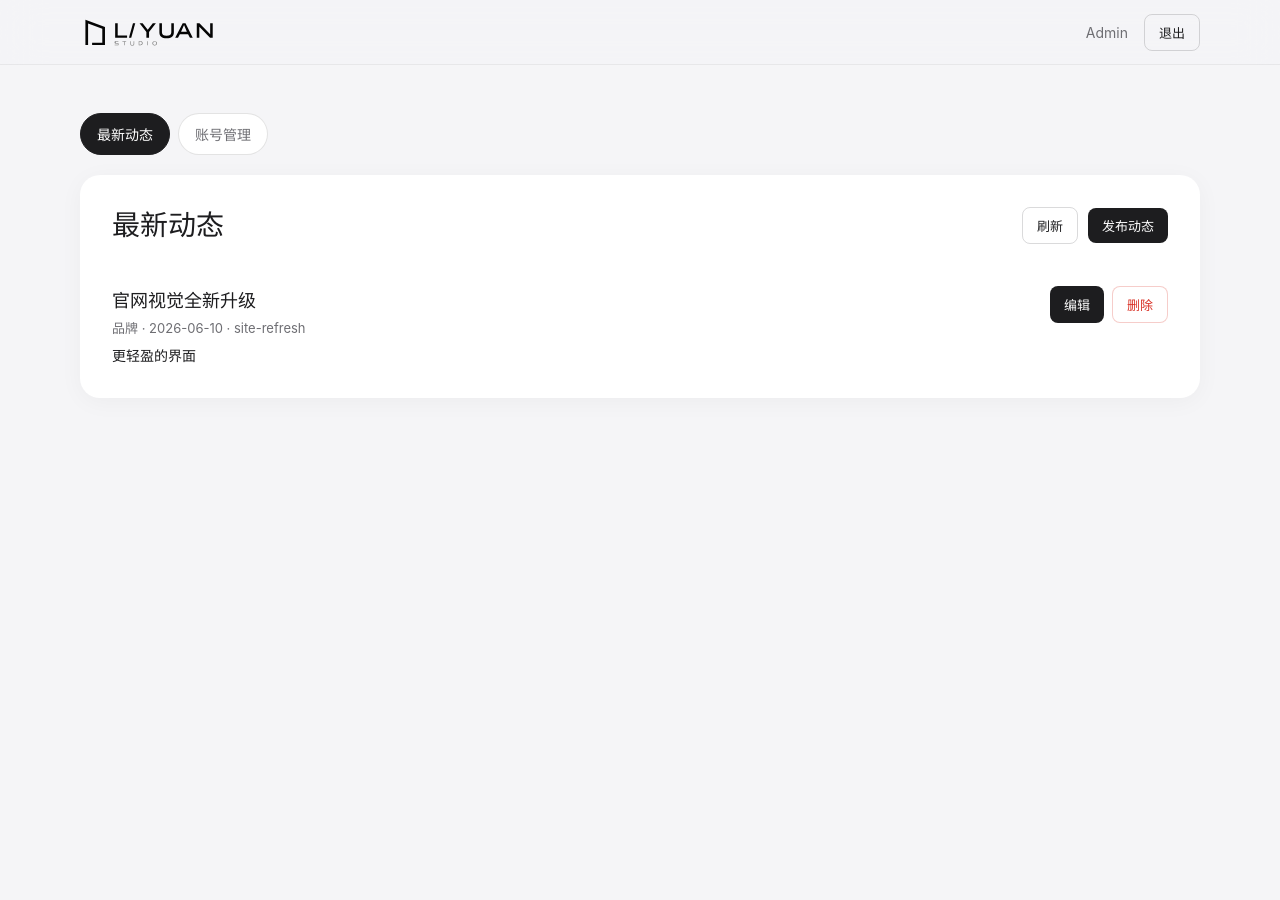
Test: AdminPage › edits an existing news item and normalizes optional fields
Expected: the heading "官网视觉全新升级" is shown, [112,290,256,311]
Click the button "编辑" at (1077, 304), box [1050,286,1104,323]
(page scrolled)
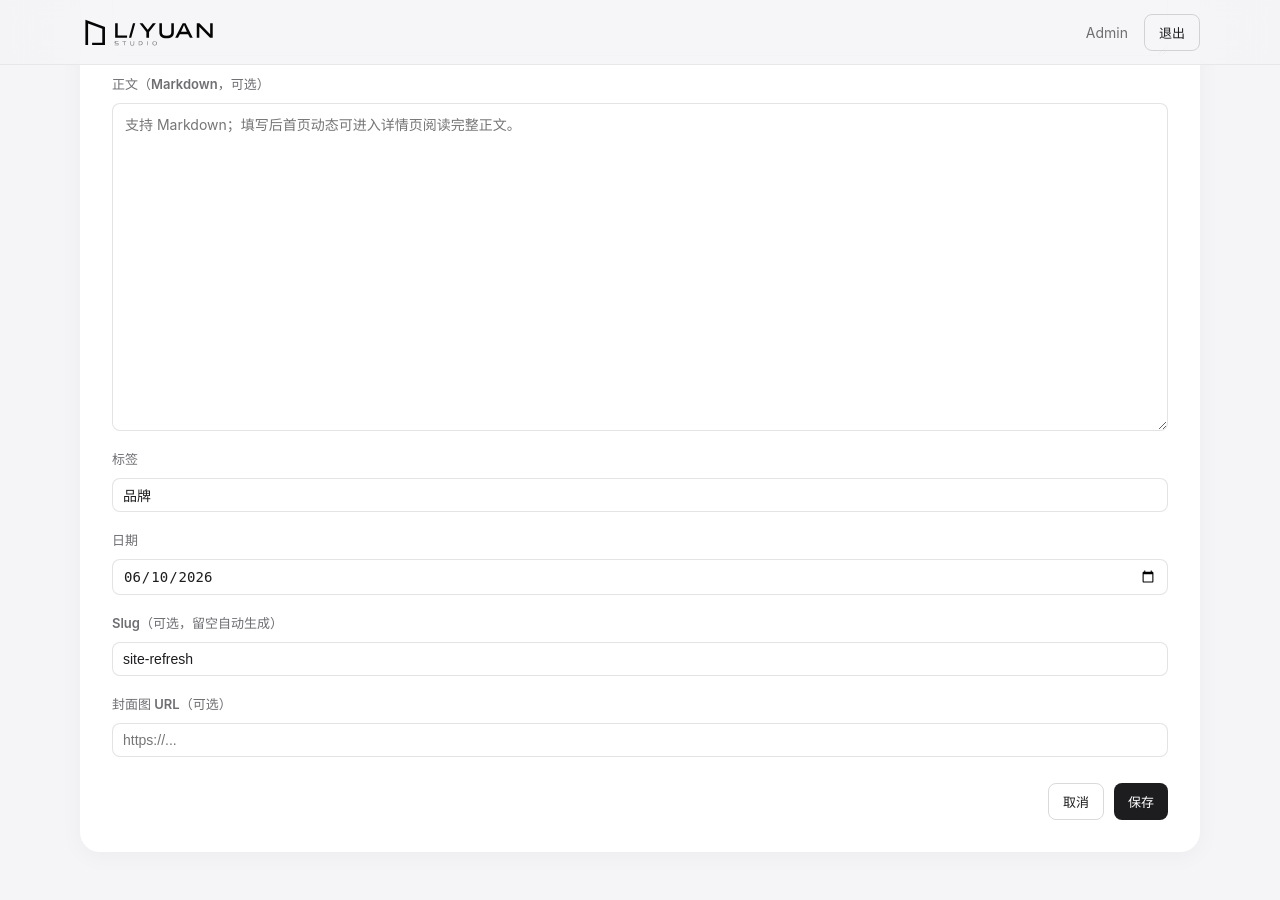
Now the text box labelled "正文（Markdown，可选）" is empty, box [112,103,1168,431]
Now the field labelled "封面图 URL（可选）" is empty, box [112,723,1168,757]
Clear the field labelled "Slug（可选，留空自动生成）" at (640, 659), box [112,642,1168,676]
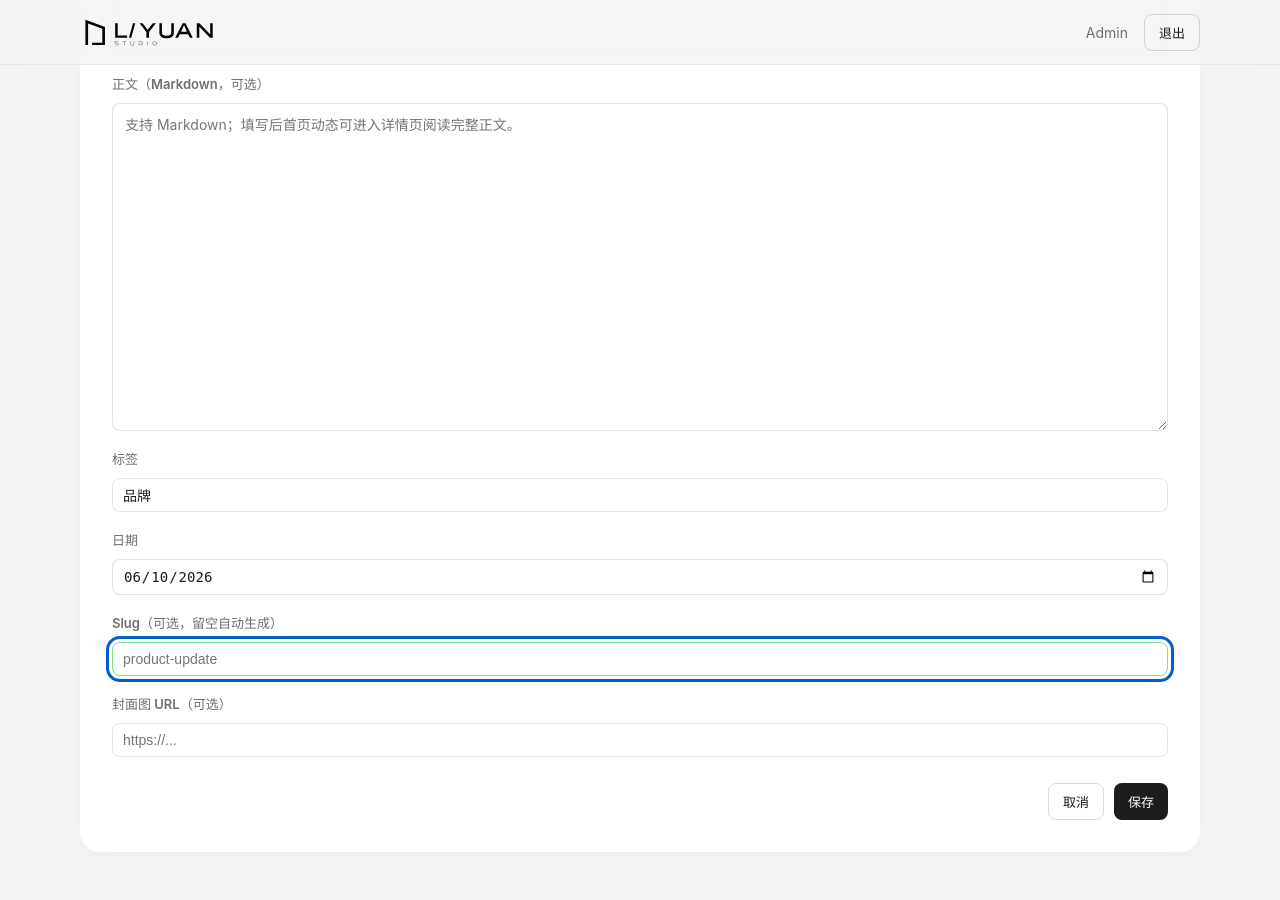
Type " https://example.com/news.png " into the field labelled "封面图 URL（可选）" at (640, 740), box [112,723,1168,757]
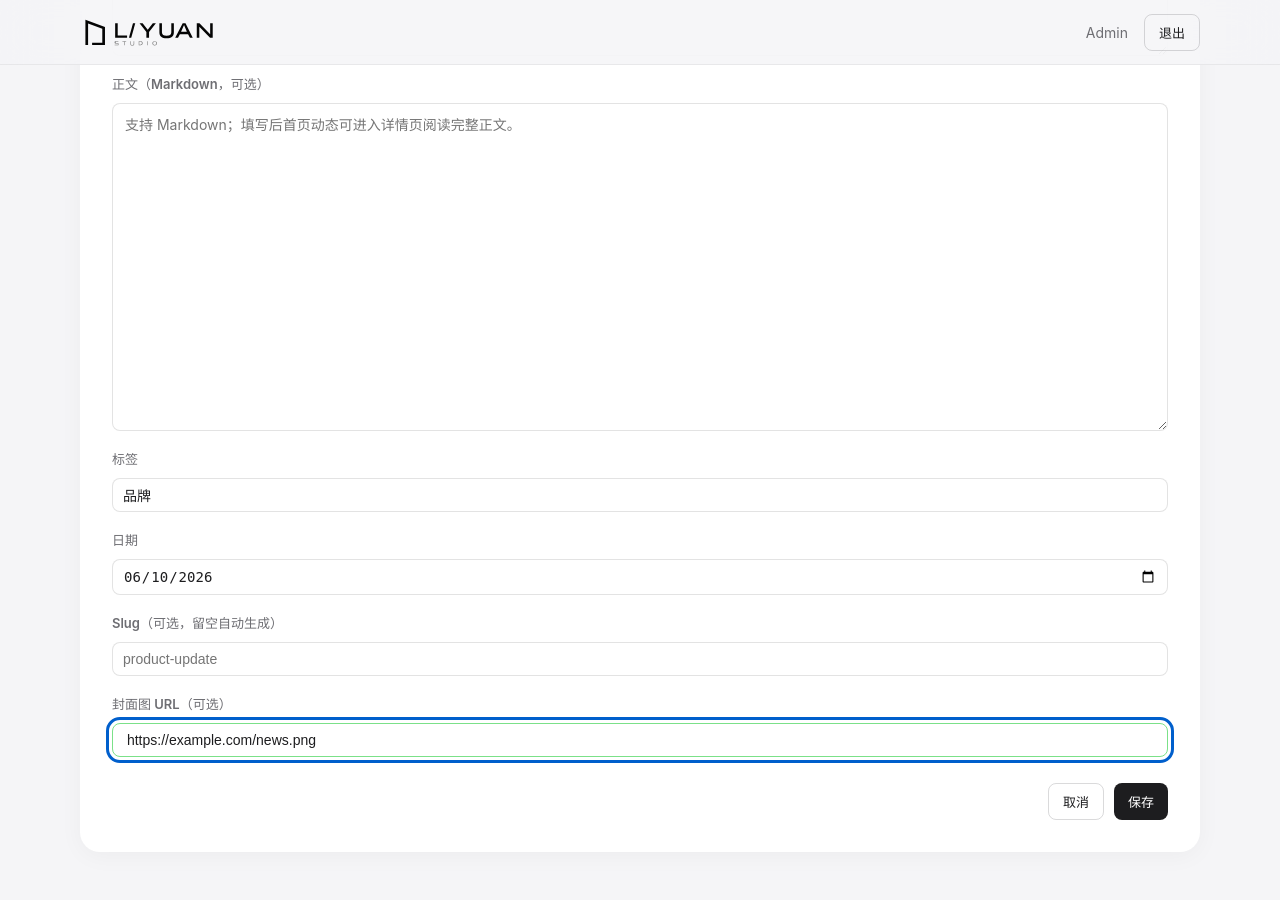
Click the button "保存" at (1141, 802), box [1114,783,1168,820]
(page scrolled)
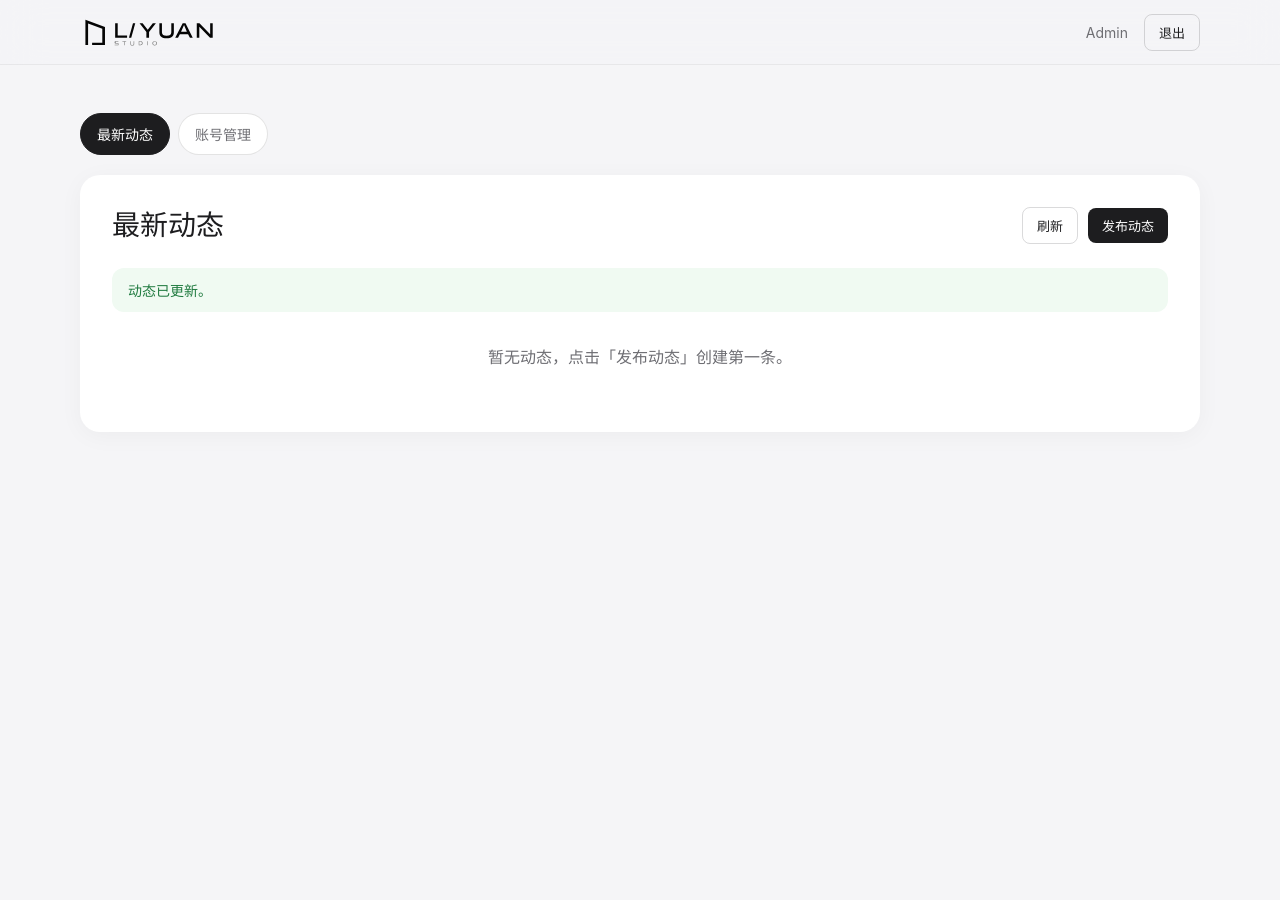
Now the message reads "动态已更新。", box [128,282,212,299]
Now the text "暂无动态，点击「发布动态」创建第一条。" is shown, box [488,347,792,367]
